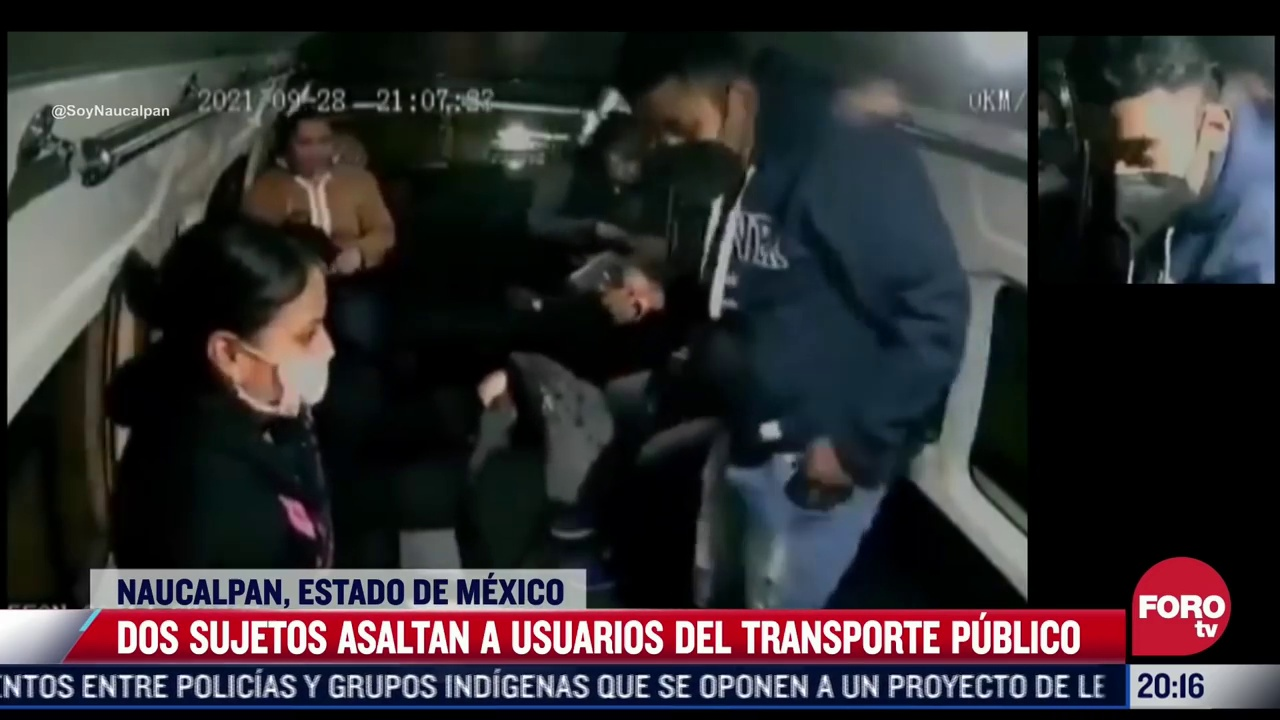pistol: (566, 248, 643, 318)
